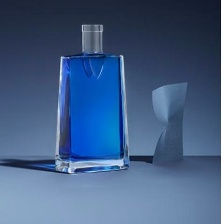bottle: (51, 19, 133, 175)
